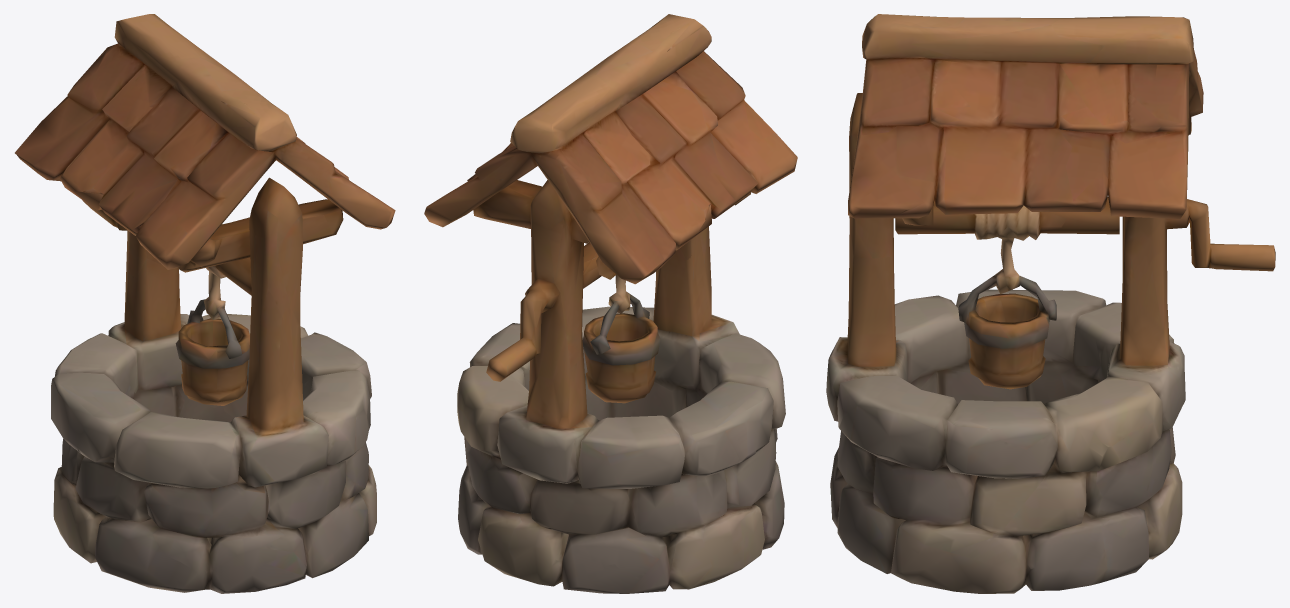
The model's file is well.glb.
The picture shows the model from 3 angles, left to right: view 1: azimuth 30°, elevation 25°; view 2: azimuth 150°, elevation 25°; view 3: azimuth 270°, elevation 25°; orthographic projection. The views are drawn at different scales.
Visible parts, largest first — view 1: tripo_node_88cb1941-498b-4a35-ad16-bad264dd299a; view 2: tripo_node_88cb1941-498b-4a35-ad16-bad264dd299a; view 3: tripo_node_88cb1941-498b-4a35-ad16-bad264dd299a.
Boxes of the visible parts, x1,y1,x2,y2 form: tripo_node_88cb1941-498b-4a35-ad16-bad264dd299a: [15, 14, 395, 593]; tripo_node_88cb1941-498b-4a35-ad16-bad264dd299a: [424, 14, 797, 593]; tripo_node_88cb1941-498b-4a35-ad16-bad264dd299a: [826, 14, 1275, 593].
Size of the model in its own units: 0.6185 by 1 by 0.8068.
1 material, 1 textured.
